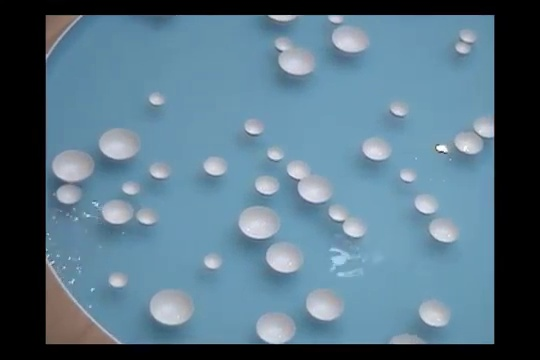bowl: (149, 289, 194, 326), (99, 127, 141, 162), (238, 206, 281, 240), (51, 150, 95, 183), (306, 288, 344, 322), (256, 312, 296, 343), (265, 242, 304, 273), (332, 25, 369, 56), (297, 176, 334, 203), (278, 50, 315, 75), (419, 299, 451, 327), (102, 200, 134, 224), (429, 218, 459, 243), (362, 137, 391, 161), (454, 132, 484, 154), (203, 156, 228, 177), (414, 193, 439, 214), (56, 184, 82, 204), (342, 218, 368, 238), (386, 333, 427, 345), (286, 160, 311, 179), (254, 176, 279, 195), (473, 117, 494, 137), (328, 204, 351, 221), (149, 162, 171, 179), (136, 208, 158, 225), (244, 119, 264, 135), (268, 14, 300, 24), (389, 101, 409, 116), (108, 272, 128, 287), (203, 254, 223, 269), (121, 181, 141, 195), (274, 37, 294, 50), (400, 168, 418, 182), (459, 30, 477, 43), (148, 93, 165, 106), (267, 147, 284, 160), (455, 43, 471, 54), (328, 15, 344, 23)
